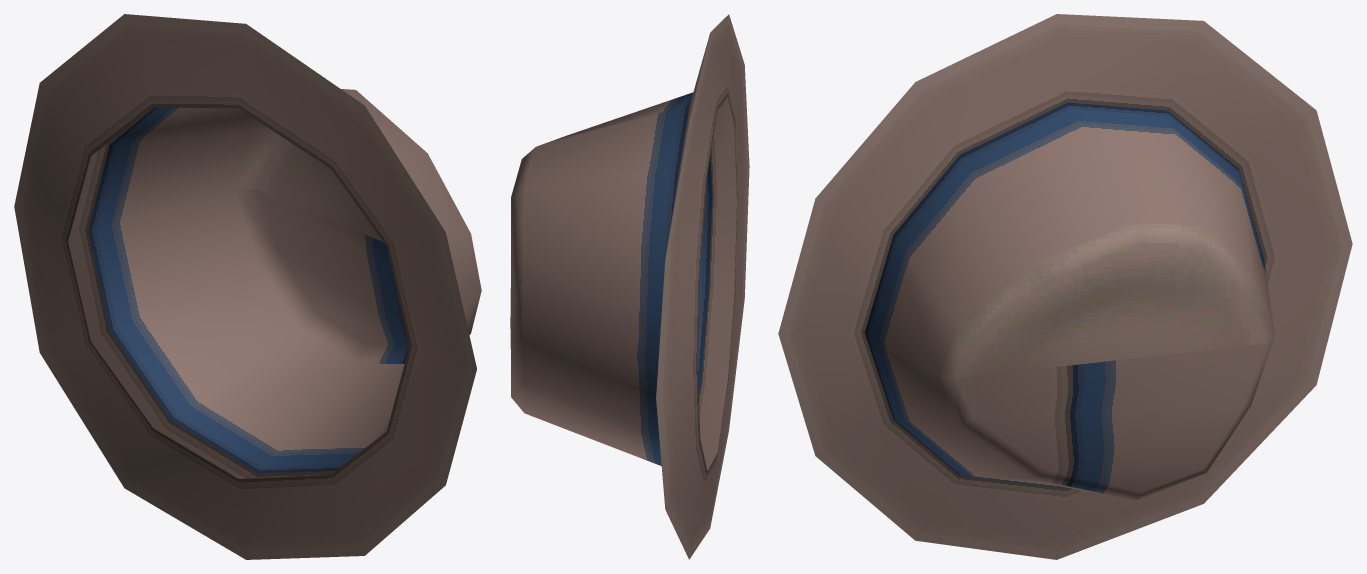
File: cap_hat_grandpa.dae
3 renders of one model, left to right at view 1: azimuth 30°, elevation 25°; view 2: azimuth 150°, elevation 25°; view 3: azimuth 270°, elevation 25°, orthographic. The views are drawn at different scales.
Parts seen in each view (by area): view 1: cap_hat_grandpa; view 2: cap_hat_grandpa; view 3: cap_hat_grandpa.
Boxes of the visible parts, bbox=[...] form: cap_hat_grandpa: bbox=[14, 14, 481, 559]; cap_hat_grandpa: bbox=[510, 14, 749, 559]; cap_hat_grandpa: bbox=[778, 14, 1352, 559].
Bounding box in the file's own units: 16.19 × 30.59 × 29.16.
Materials: 1 (1 with a texture image).
